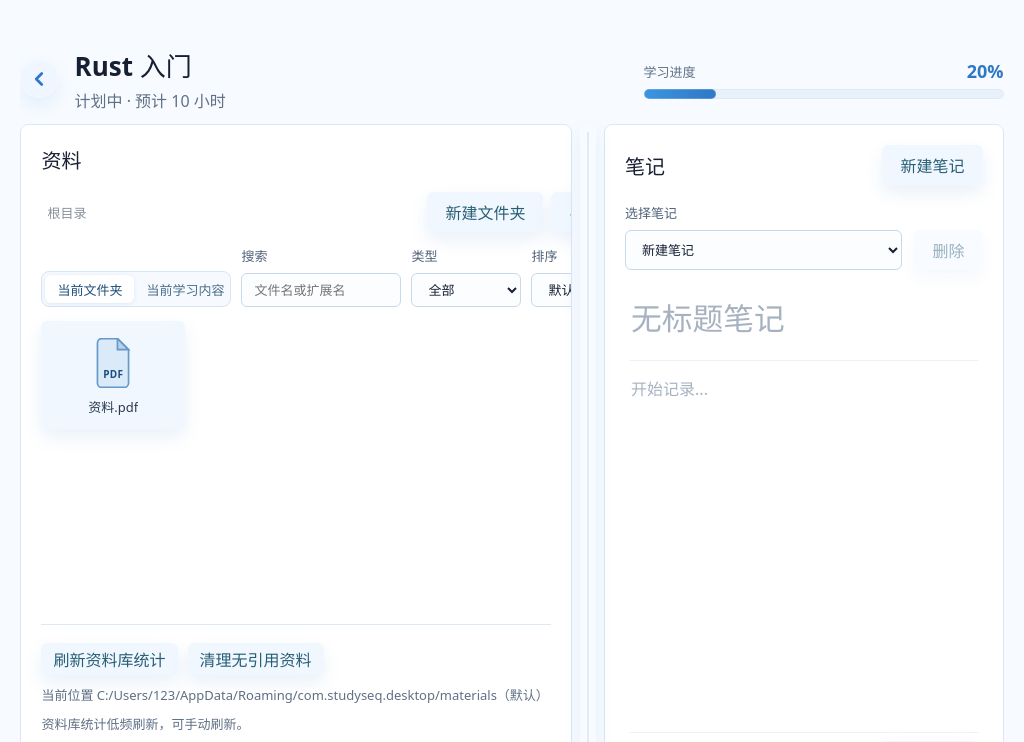
Test: StudyDetailPage › keeps low saved scale for ordinary PDF materials
Check: the heading "资料.pdf" is shown, box top-left (88, 399), bottom-right (138, 416)
Click the button with aria-label "打开资料：资料.pdf" at (113, 375), box top-left (42, 321), bottom-right (185, 428)
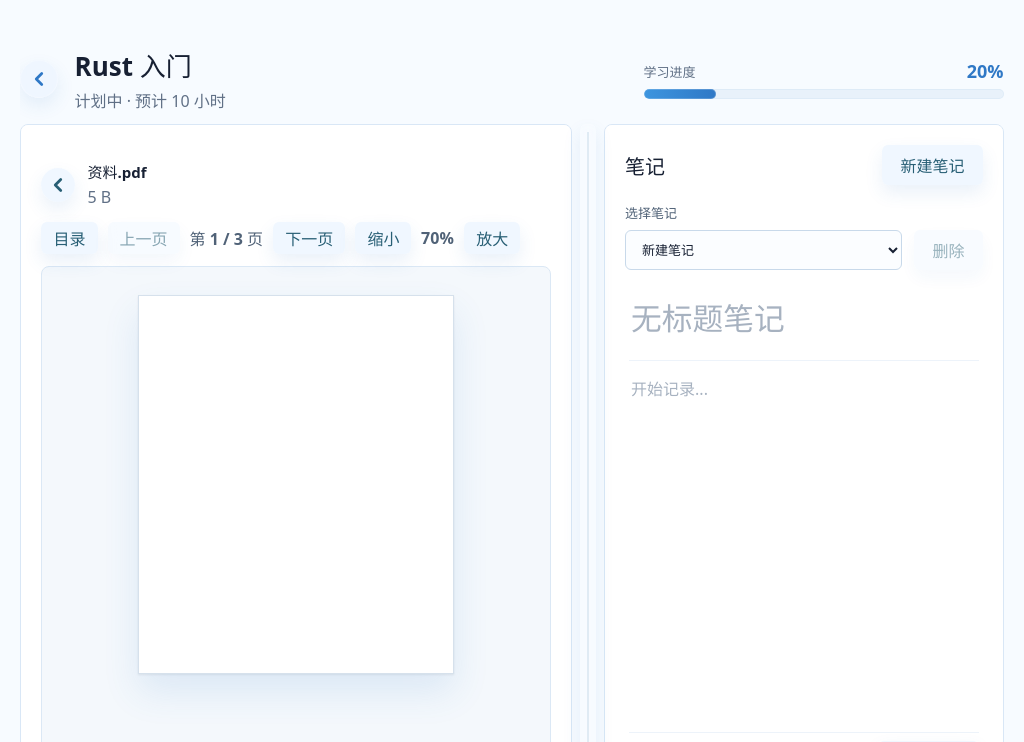
Check: the text "第 1 / 3 页" is shown, box top-left (190, 226), bottom-right (263, 250)
Check: the text "70%" is shown, box top-left (421, 227), bottom-right (454, 249)
